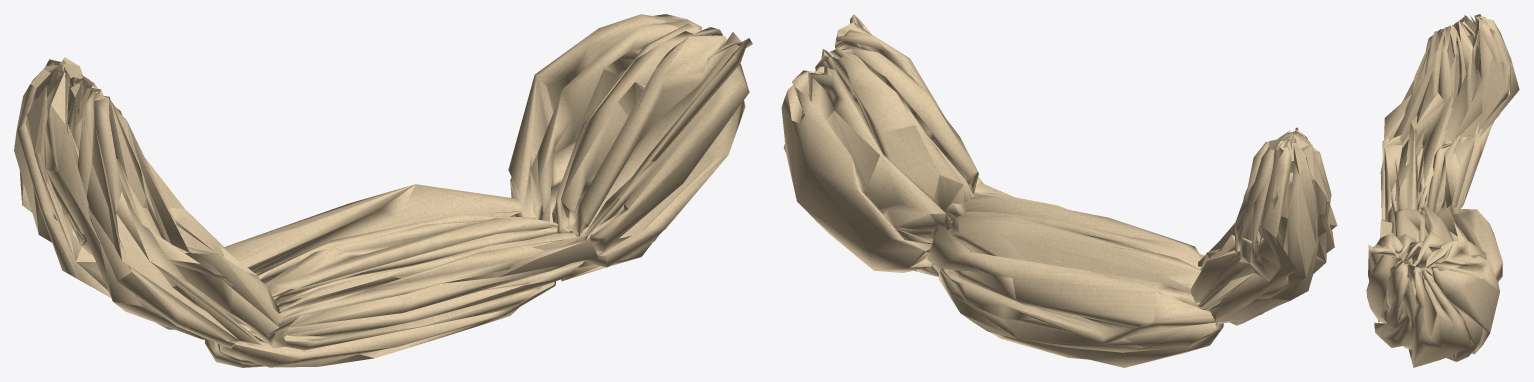
Rendered from bundled_sails_2.glb.
3 views of the same model, side by side, from view 1: azimuth 30°, elevation 25°; view 2: azimuth 150°, elevation 25°; view 3: azimuth 270°, elevation 25° (orthographic). The views are drawn at different scales.
Visible parts, largest first — view 1: Bool result 0.001; view 2: Bool result 0.001; view 3: Bool result 0.001.
Part boxes in pixels (<box>): Bool result 0.001: <box>14,14,752,367</box>; Bool result 0.001: <box>781,14,1337,367</box>; Bool result 0.001: <box>1366,14,1519,367</box>.
Bounding box in the file's own units: 3.39 × 1.63 × 1.04.
Materials: 1 (1 with a texture image).
